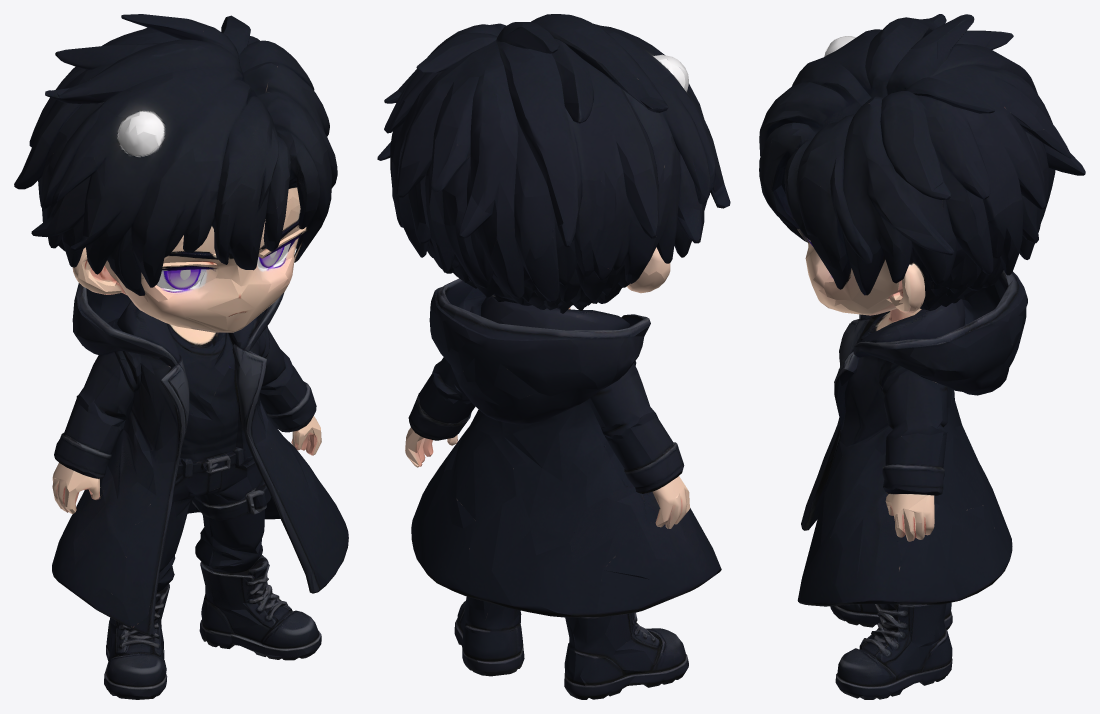
Rendered from Sung Jinwu.glb.
The picture shows the model from 3 angles, left to right: view 1: azimuth 30°, elevation 25°; view 2: azimuth 150°, elevation 25°; view 3: azimuth 270°, elevation 25°; orthographic projection. The views are drawn at different scales.
Parts seen in each view (by area): view 1: Mesh_0; view 2: Mesh_0; view 3: Mesh_0.
Part boxes in pixels (<box>): Mesh_0: <box>14,14,348,699</box>; Mesh_0: <box>377,14,730,699</box>; Mesh_0: <box>759,14,1085,699</box>.
Size of the model in its own units: 0.9301 by 1.9 by 0.9088.
Materials: 1 (1 with a texture image).
